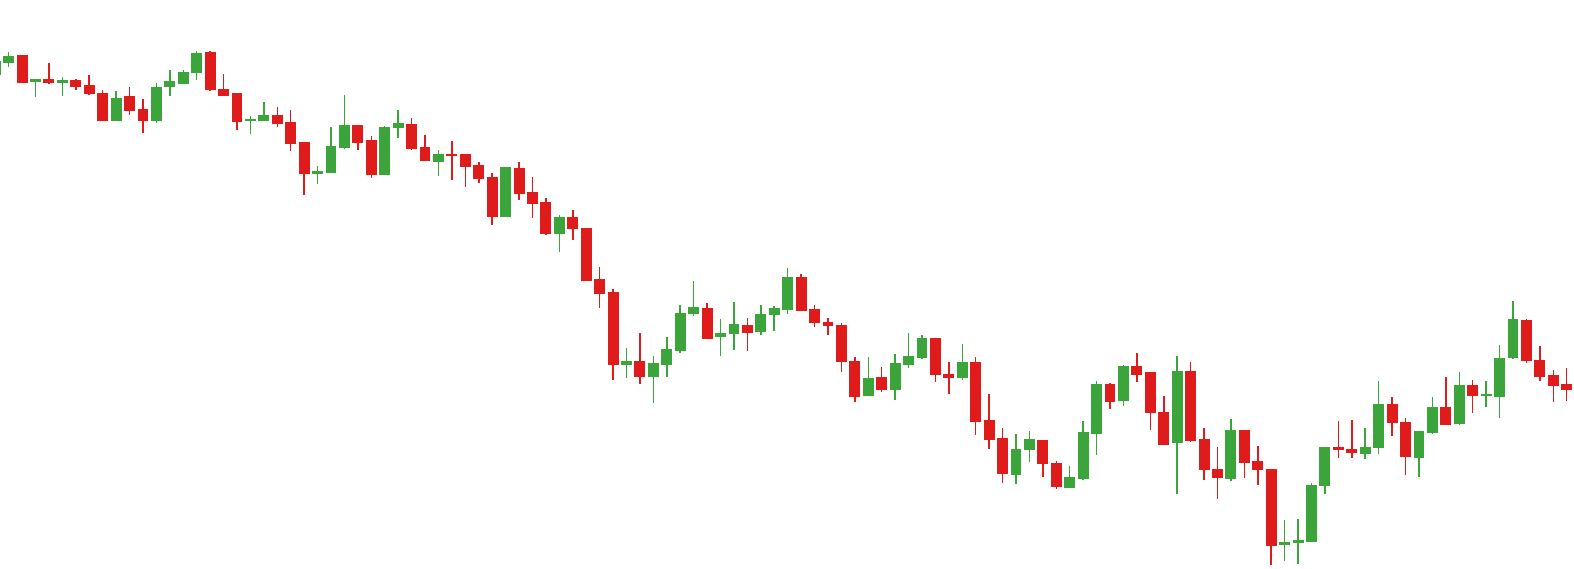sell: (684, 267, 809, 329), (259, 93, 354, 163)
